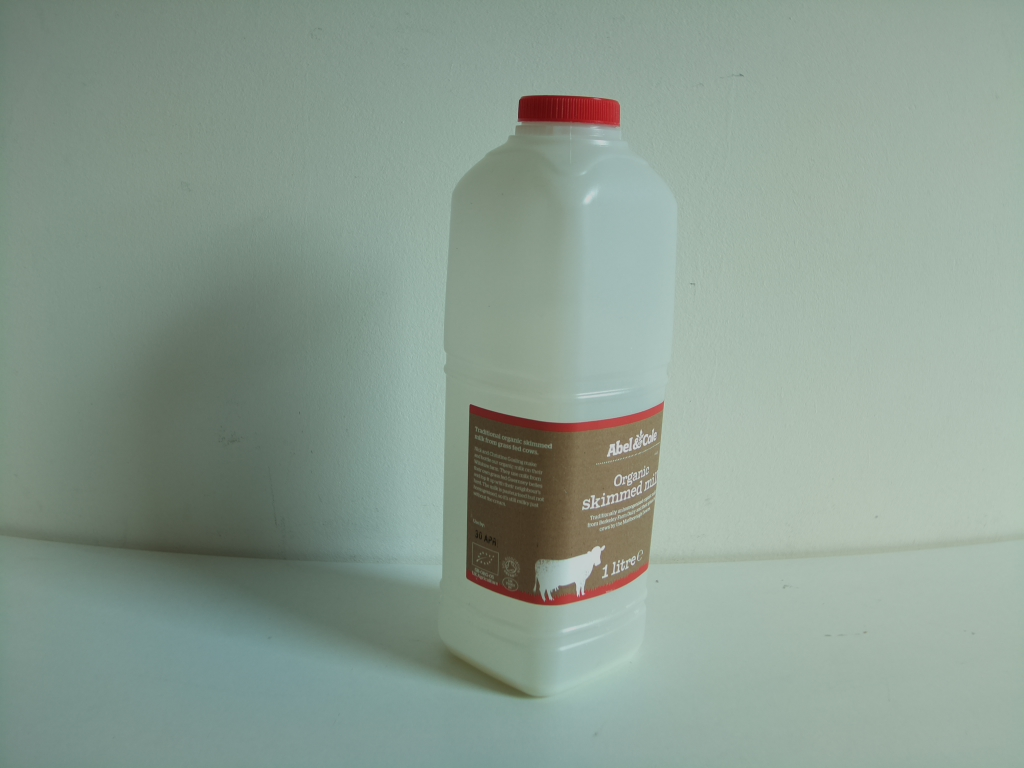milk: (426, 96, 682, 703)
